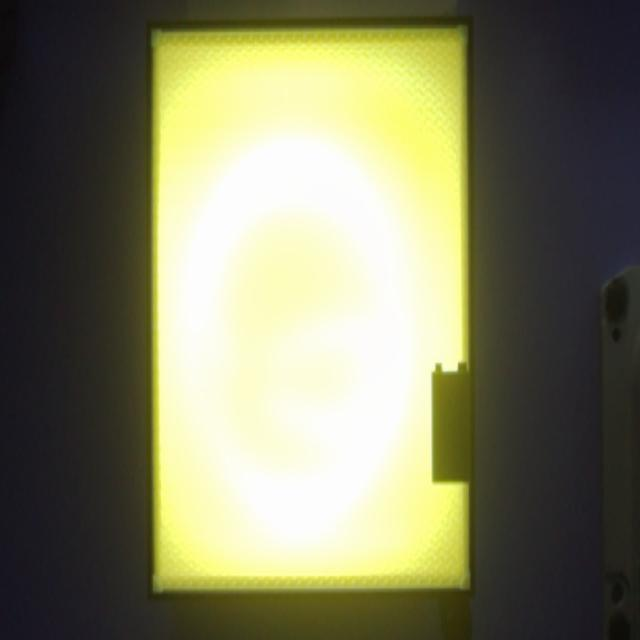bateria: (431, 362, 471, 483)
mesa: (146, 17, 476, 601)
